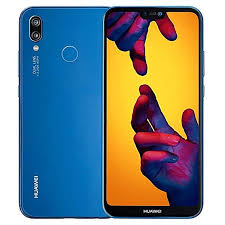huawei: (16, 4, 204, 217), (102, 6, 206, 219), (16, 3, 106, 218)
